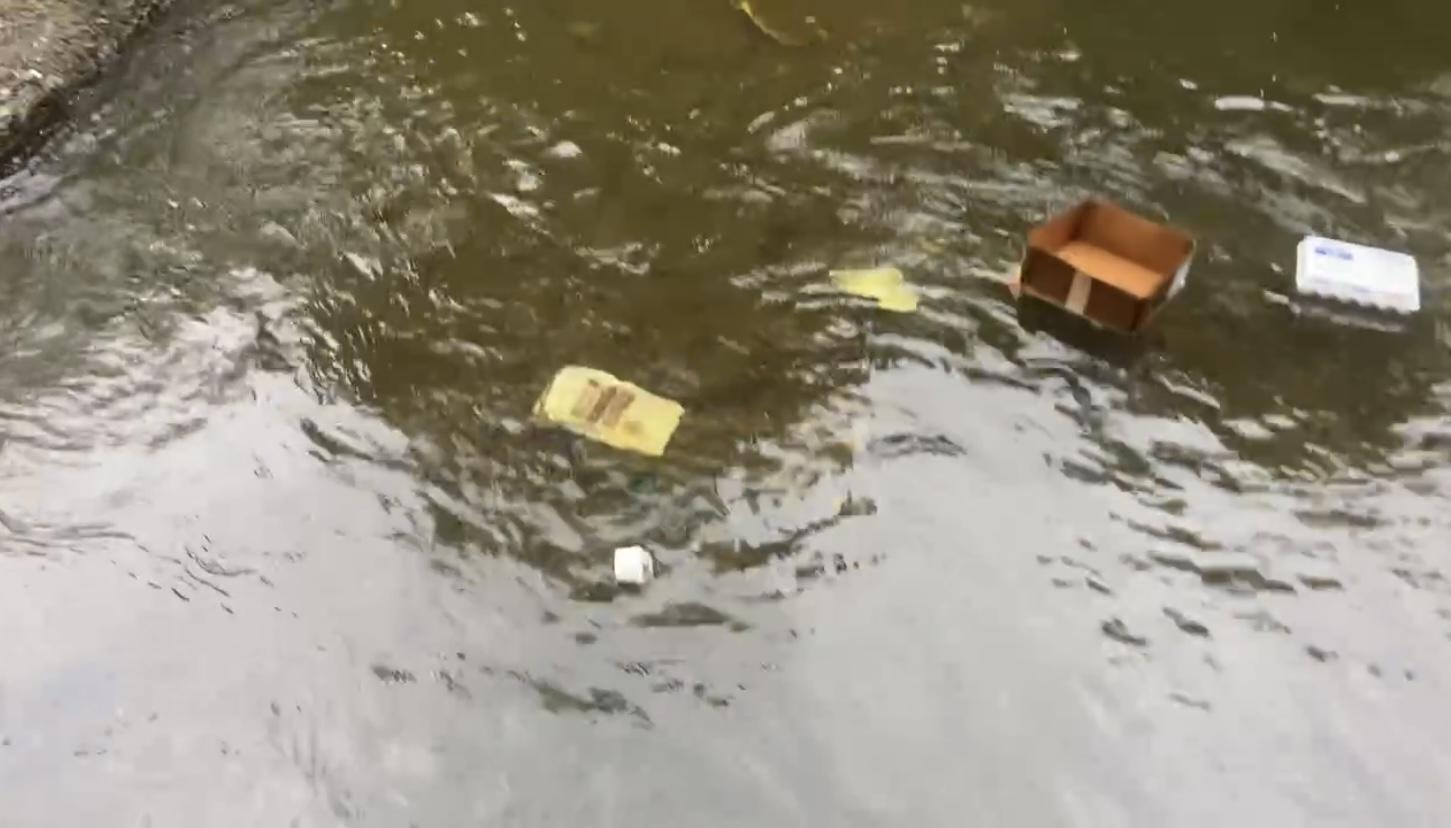cardboard: (1012, 192, 1205, 340)
metal: (823, 256, 931, 317)
paper: (604, 538, 647, 590)
plastic: (519, 355, 692, 465), (1285, 227, 1428, 325), (636, 543, 657, 587)
